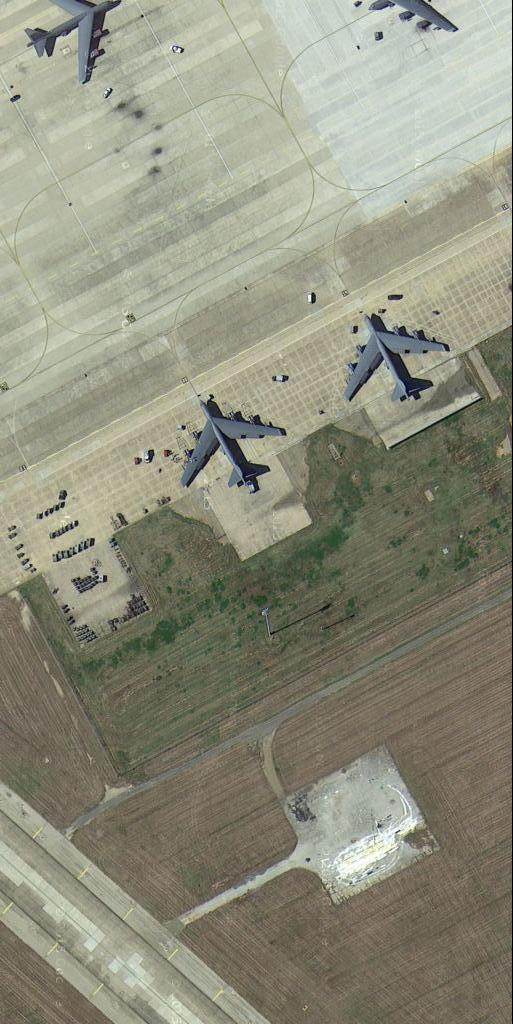B-52: (335, 311, 457, 409), (175, 398, 288, 497), (22, 1, 127, 87)
